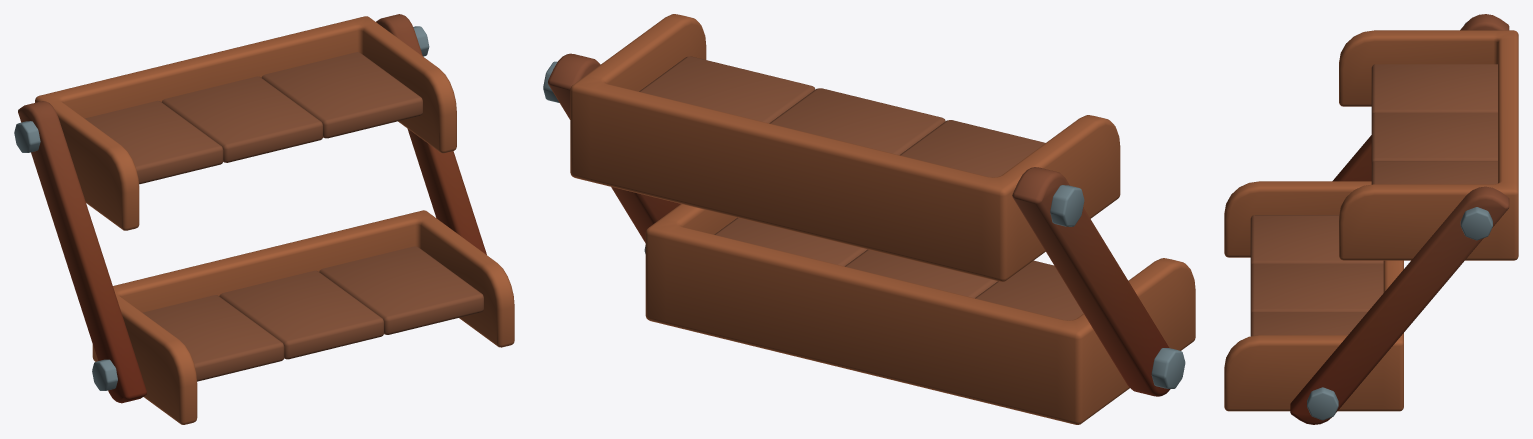
The model's file is ChickenPlace.fbx.
The picture shows the model from 3 angles, left to right: view 1: azimuth 30°, elevation 25°; view 2: azimuth 150°, elevation 25°; view 3: azimuth 270°, elevation 25°; orthographic projection. The views are drawn at different scales.
Parts seen in each view (by area): view 1: Cube.087, Cube.033; view 2: Cube.087, Cube.033; view 3: Cube.087, Cube.033.
Part boxes in pixels (bbox=[...]): Cube.087: bbox=[14, 14, 514, 424]; Cube.033: bbox=[84, 52, 483, 381]; Cube.087: bbox=[543, 14, 1195, 424]; Cube.033: bbox=[639, 56, 1083, 320]; Cube.087: bbox=[1224, 14, 1518, 424]; Cube.033: bbox=[1250, 64, 1497, 336].
Size of the model in its own units: 1.93 by 1.07 by 1.24.
